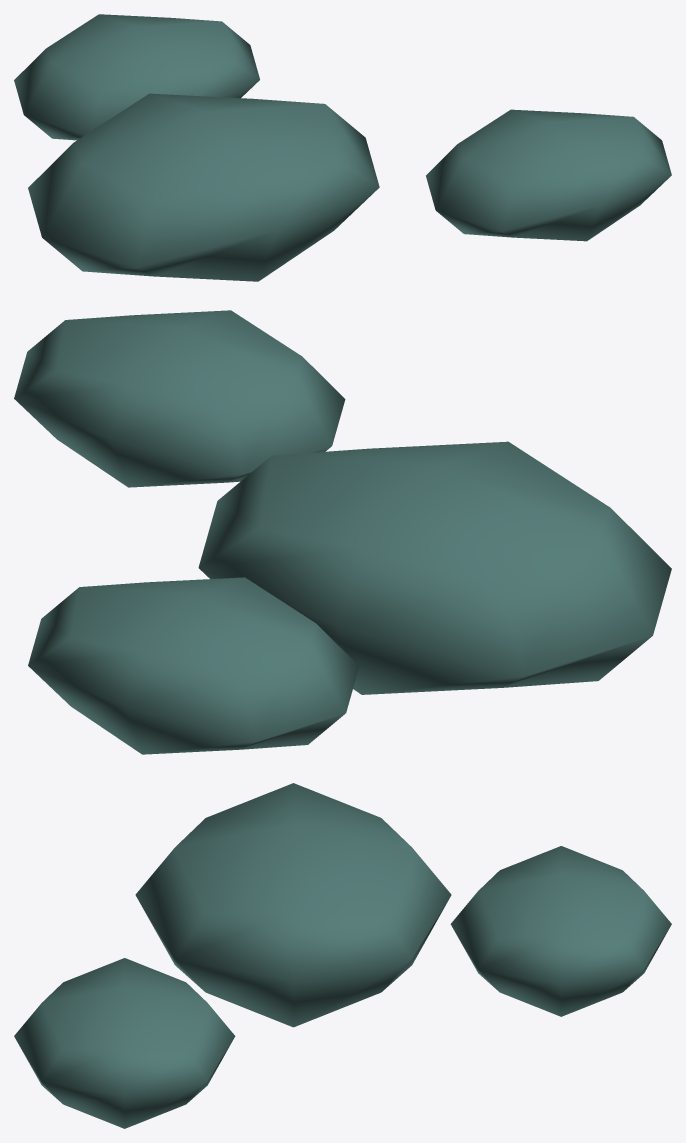
Rendered from stone1.fbx.
3 renders of one model, top to bottom at view 1: azimuth 30°, elevation 25°; view 2: azimuth 150°, elevation 25°; view 3: azimuth 270°, elevation 25°, orthographic. The views are drawn at different scales.
Visible parts, largest first — view 1: pCube1, pCube3, pCube2; view 2: pCube1, pCube2, pCube3; view 3: pCube1, pCube3, pCube2.
Part boxes in pixels (x1,y1,x2,y2): pCube1: [28, 93, 379, 281]; pCube3: [426, 109, 671, 241]; pCube2: [14, 14, 259, 140]; pCube1: [198, 441, 671, 694]; pCube2: [28, 577, 359, 754]; pCube3: [14, 310, 345, 487]; pCube1: [135, 783, 451, 1027]; pCube3: [14, 958, 235, 1128]; pCube2: [450, 846, 671, 1016].
Size of the model in its own units: 42.16 by 11.1 by 40.72.
